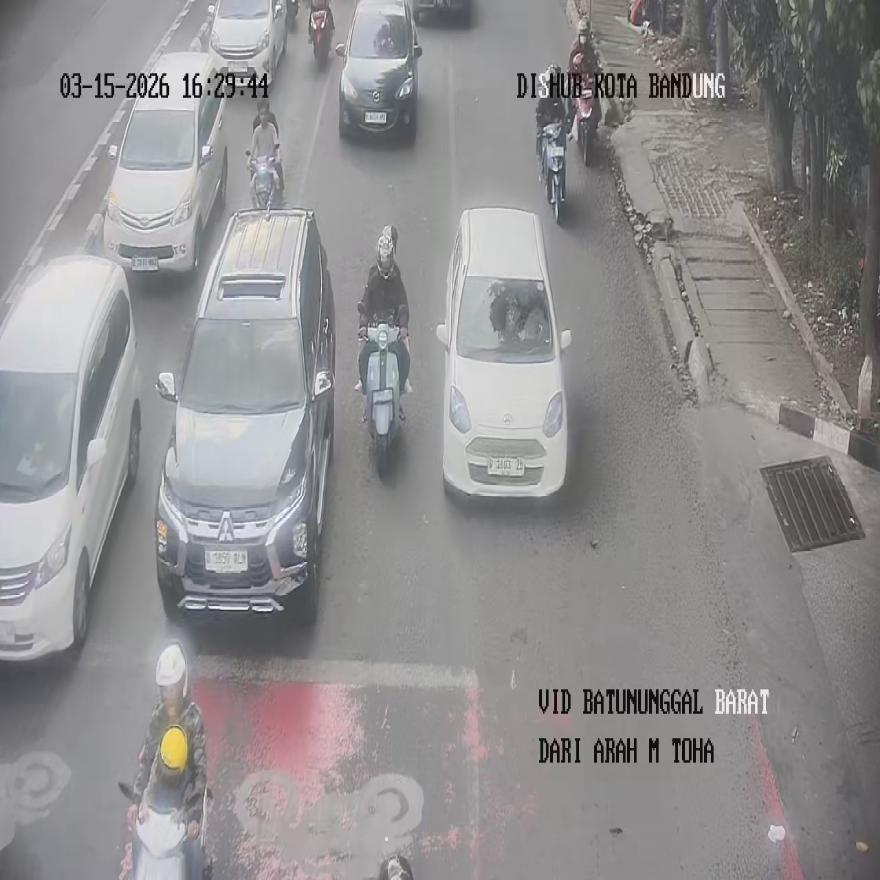Mobil: (153, 208, 334, 622), (0, 254, 142, 660), (436, 205, 572, 498), (102, 51, 228, 272), (336, 0, 422, 142), (207, 0, 288, 93)
Motor: (118, 777, 212, 880), (361, 322, 403, 474), (540, 122, 566, 222), (246, 149, 282, 210), (574, 86, 599, 166), (308, 5, 334, 66), (286, 0, 299, 29)
